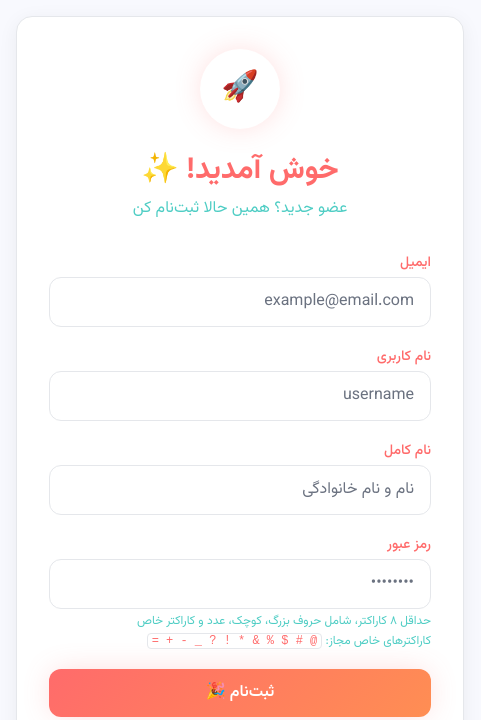
RegisterPage › should show password validation error for weak password
This screenshot has width=481, height=720.
In the field labelled "ایمیل": (240, 302) [49,277,431,327], type "test@example.com"
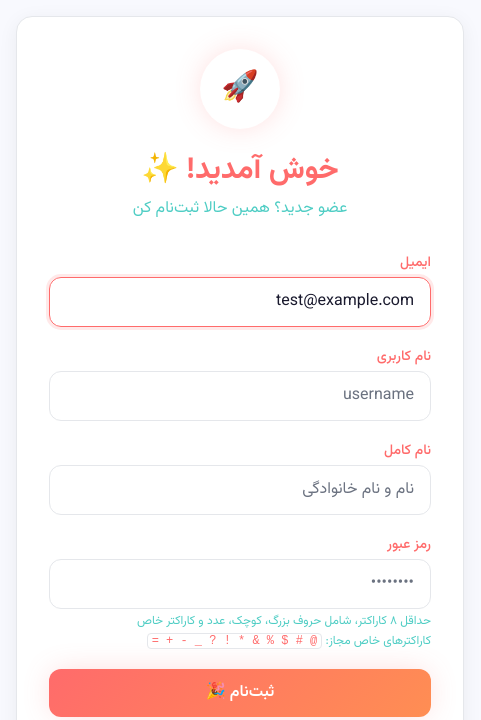
In the field labelled "نام کاربری": (240, 396) [49,371,431,421], type "testuser"
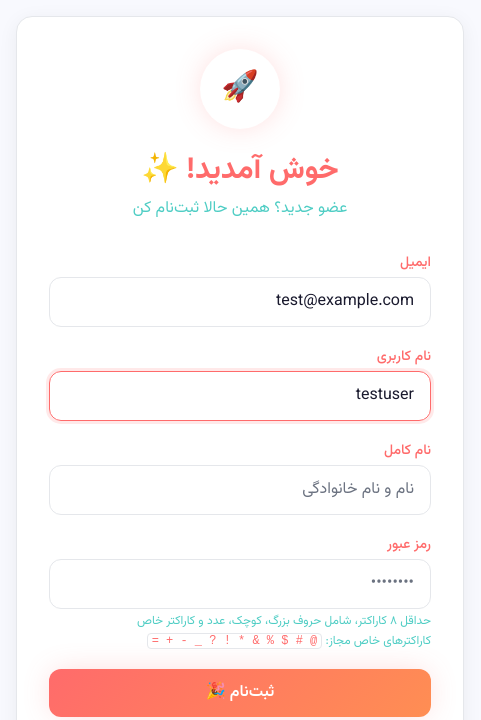
In the field labelled "نام کامل": (240, 490) [49,465,431,515], type "کاربر تست"
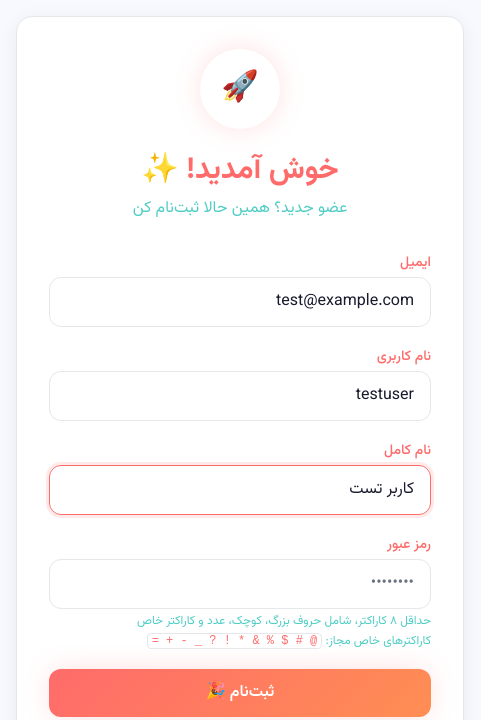
In the password field labelled "رمز عبور": (240, 584) [49,559,431,609], type "12345"
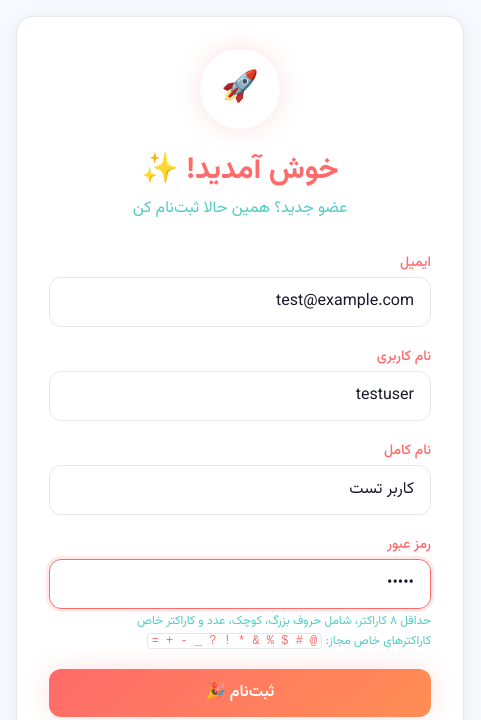
Click the button "ثبت‌نام 🎉": (240, 693) [49,669,431,717]
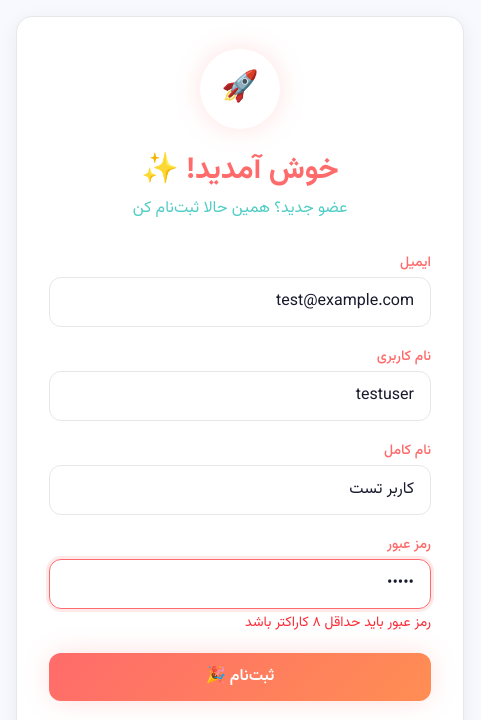
Expected: the text "رمز عبور باید حداقل ۸ کاراکتر باشد" is shown, [245,612,431,634]
